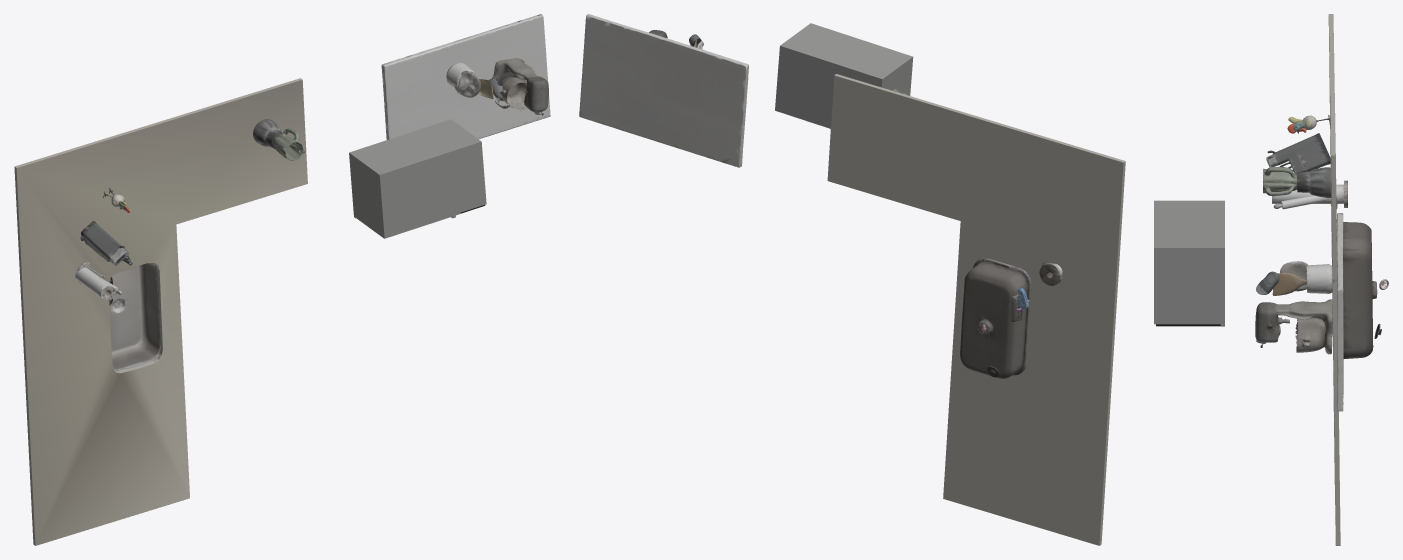
Rendered from static.glb.
The picture shows the model from 3 angles, left to right: view 1: azimuth 30°, elevation 25°; view 2: azimuth 150°, elevation 25°; view 3: azimuth 270°, elevation 25°; orthographic projection. The views are drawn at different scales.
Parts seen in each view (by area): view 1: object_61/0, object_1/0, object_3/0, object_40/0, object_4/0, object_27/0, object_49/0, object_44/0; view 2: object_61/0, object_3/0, object_1/0, object_40/0; view 3: object_1/0, object_40/0, object_4/0, object_61/0, object_27/0, object_49/0, object_3/0, object_21/0, object_44/0, object_38/0, object_98/0, object_77/0 (+2 smaller).
Boxes of the visible parts, x1,y1,x2,y2 form: object_61/0: [14, 78, 307, 545]; object_1/0: [349, 119, 486, 238]; object_3/0: [381, 14, 550, 139]; object_40/0: [109, 263, 160, 371]; object_4/0: [492, 58, 548, 115]; object_27/0: [253, 119, 305, 161]; object_49/0: [80, 221, 132, 266]; object_44/0: [75, 267, 115, 300]; object_61/0: [827, 74, 1125, 545]; object_3/0: [579, 14, 748, 167]; object_1/0: [775, 23, 913, 128]; object_40/0: [960, 258, 1031, 378]; object_1/0: [1154, 200, 1224, 326]; object_40/0: [1336, 219, 1377, 358]; object_4/0: [1255, 299, 1332, 354]; object_61/0: [1328, 14, 1340, 545]; object_27/0: [1263, 167, 1331, 197]; object_49/0: [1266, 133, 1330, 173]; object_3/0: [1336, 213, 1343, 411]; object_21/0: [1306, 264, 1332, 293]; object_44/0: [1272, 180, 1347, 207]; object_38/0: [1272, 273, 1334, 295]; object_98/0: [1287, 115, 1330, 133]; object_77/0: [1273, 195, 1337, 209].
Size of the model in its own units: 3.69 by 2.65 by 1.21.
